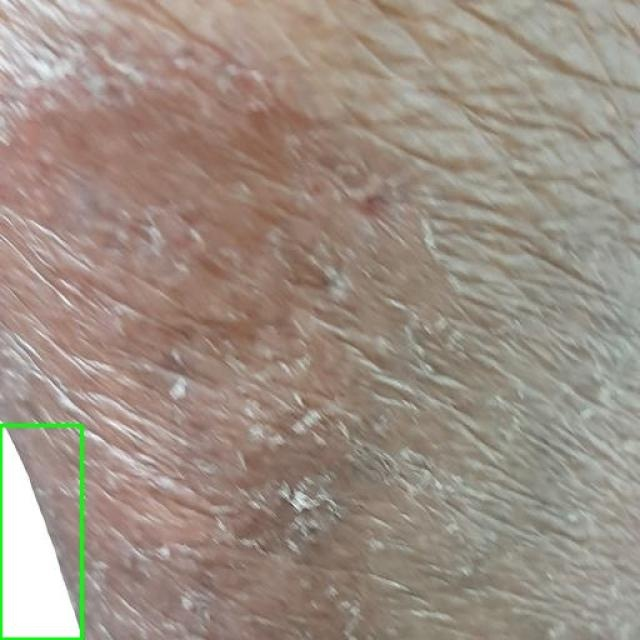Tinea Corporis: (0, 425, 81, 639)
